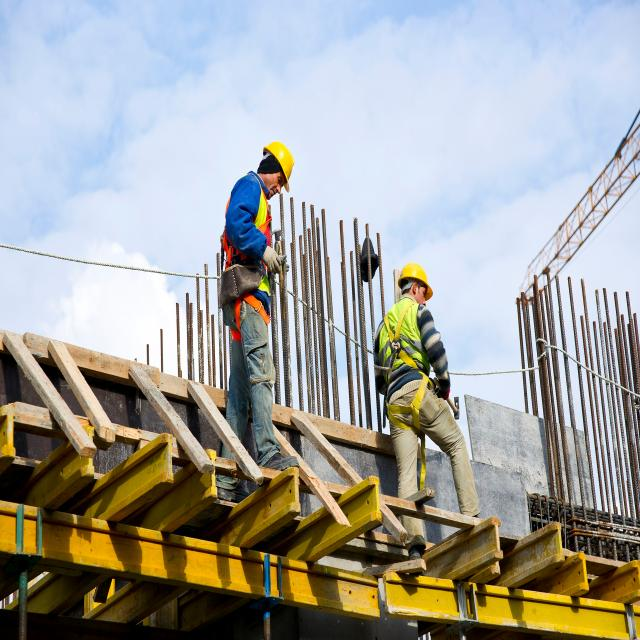gloves: (264, 242, 287, 277)
helmet: (263, 138, 295, 196), (397, 257, 435, 303)
vest: (222, 171, 276, 325), (371, 300, 435, 386)
